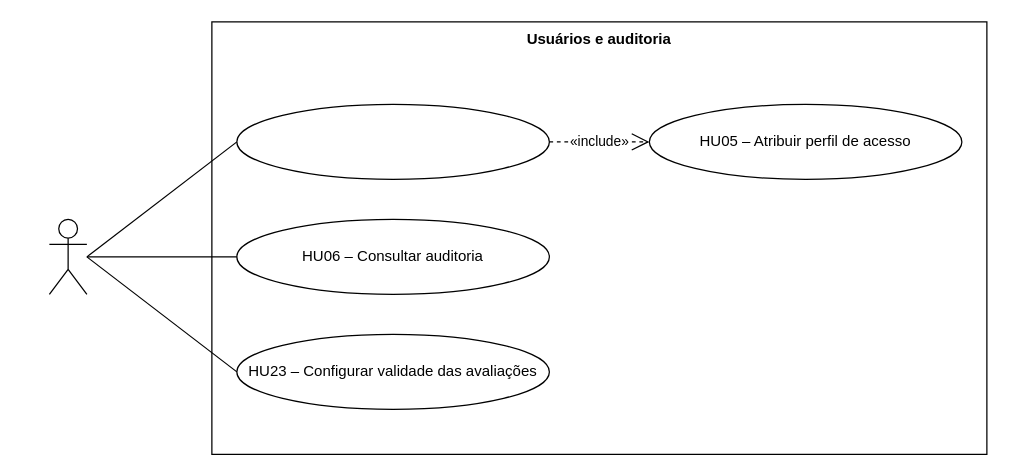
The diagram is 1009 pixels wide and 476 high, and some of its shapes have lost their labels. The shapes that lost their labels are listed below. From the top down, each one's box as (x1, y1, x2, y2) in pixels, then its label:
(236, 103, 549, 179): HU04 – Gerenciar usuários
(48, 218, 87, 294): Administrador
